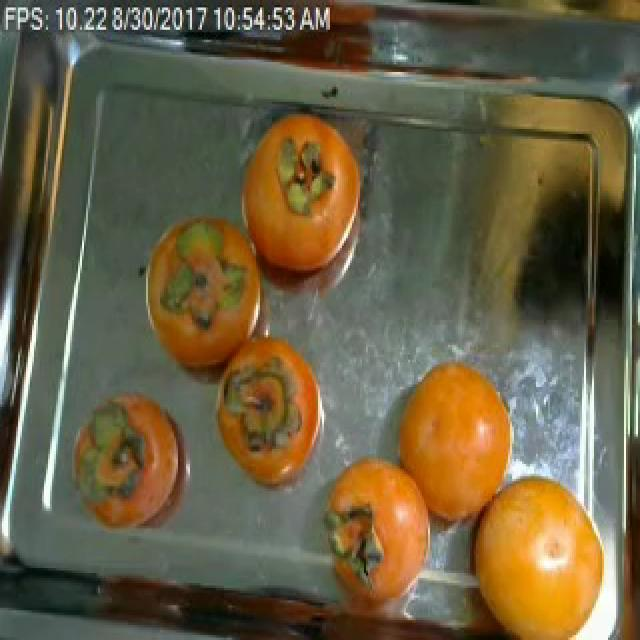Fruit: (222, 94, 380, 298), (450, 461, 608, 640), (382, 347, 528, 531), (204, 317, 338, 516), (132, 196, 272, 384), (62, 377, 206, 548)
